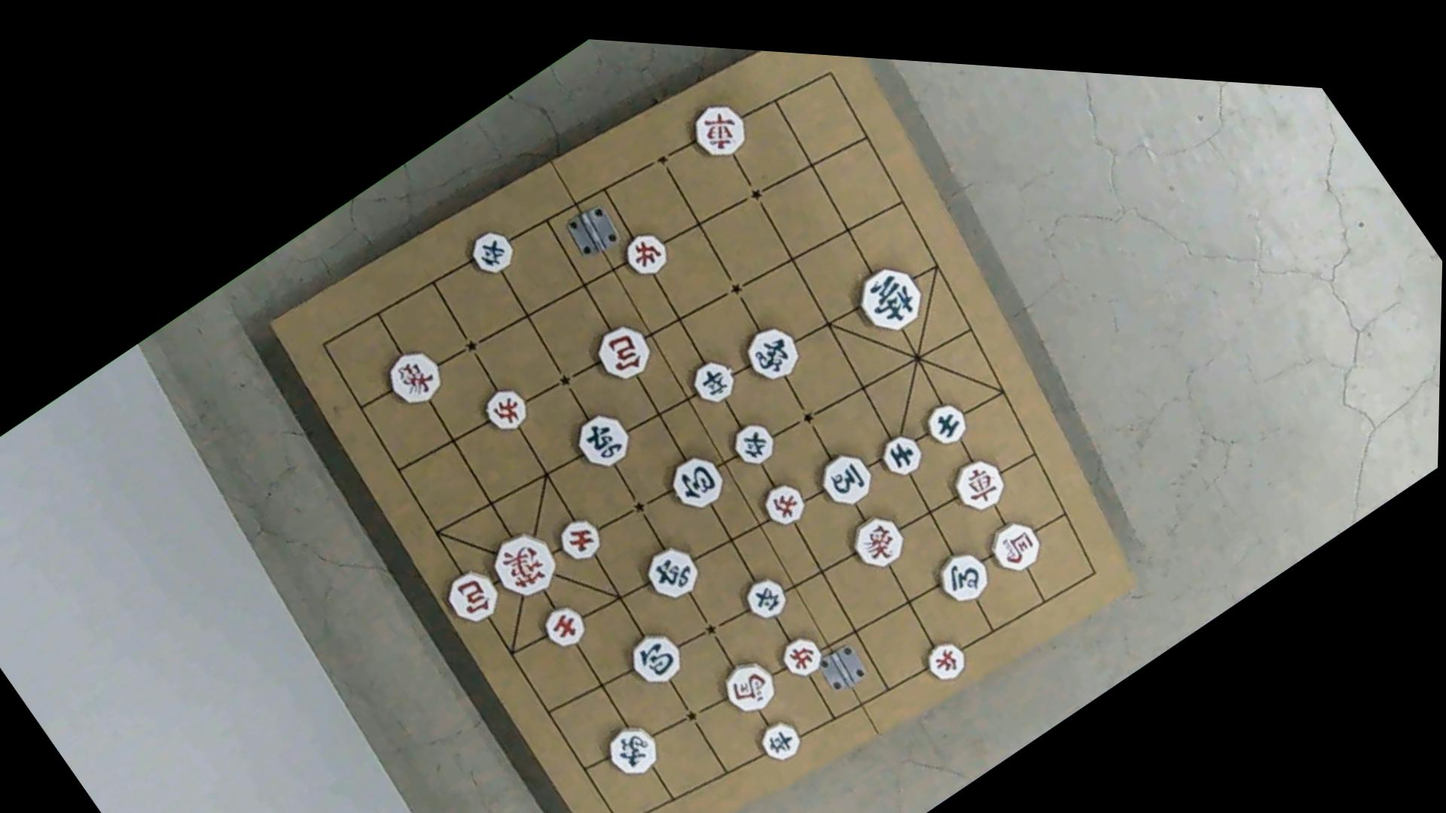cha_green: (566, 404, 635, 475), (635, 535, 703, 606)
cha_red: (682, 94, 752, 167), (947, 450, 1013, 519)
jol_green: (462, 223, 519, 282), (682, 355, 738, 413), (728, 416, 782, 473), (755, 714, 809, 769), (737, 571, 790, 626)
jol_red: (616, 222, 673, 281), (475, 380, 531, 438), (770, 629, 824, 684), (758, 477, 812, 532), (919, 632, 972, 687)
ma_green: (929, 540, 998, 613), (811, 444, 877, 513)
ma_red: (716, 651, 784, 722), (978, 512, 1045, 581)
po_green: (662, 445, 731, 517), (620, 623, 687, 693)
po_red: (587, 315, 657, 388), (435, 561, 503, 632)
sa_green: (918, 395, 972, 451), (874, 427, 927, 483)
sa_red: (535, 598, 590, 656), (552, 509, 607, 566)
sang_green: (734, 317, 804, 390), (599, 713, 665, 782)
sang_red: (378, 340, 451, 416), (844, 507, 911, 577)
wang_green: (847, 254, 931, 342)
wang_red: (480, 521, 563, 608)
